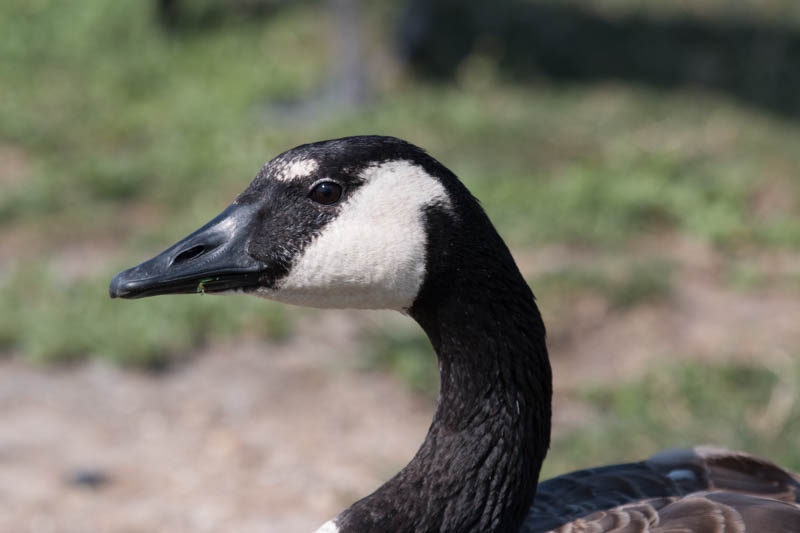goose-head: (109, 135, 482, 319)
